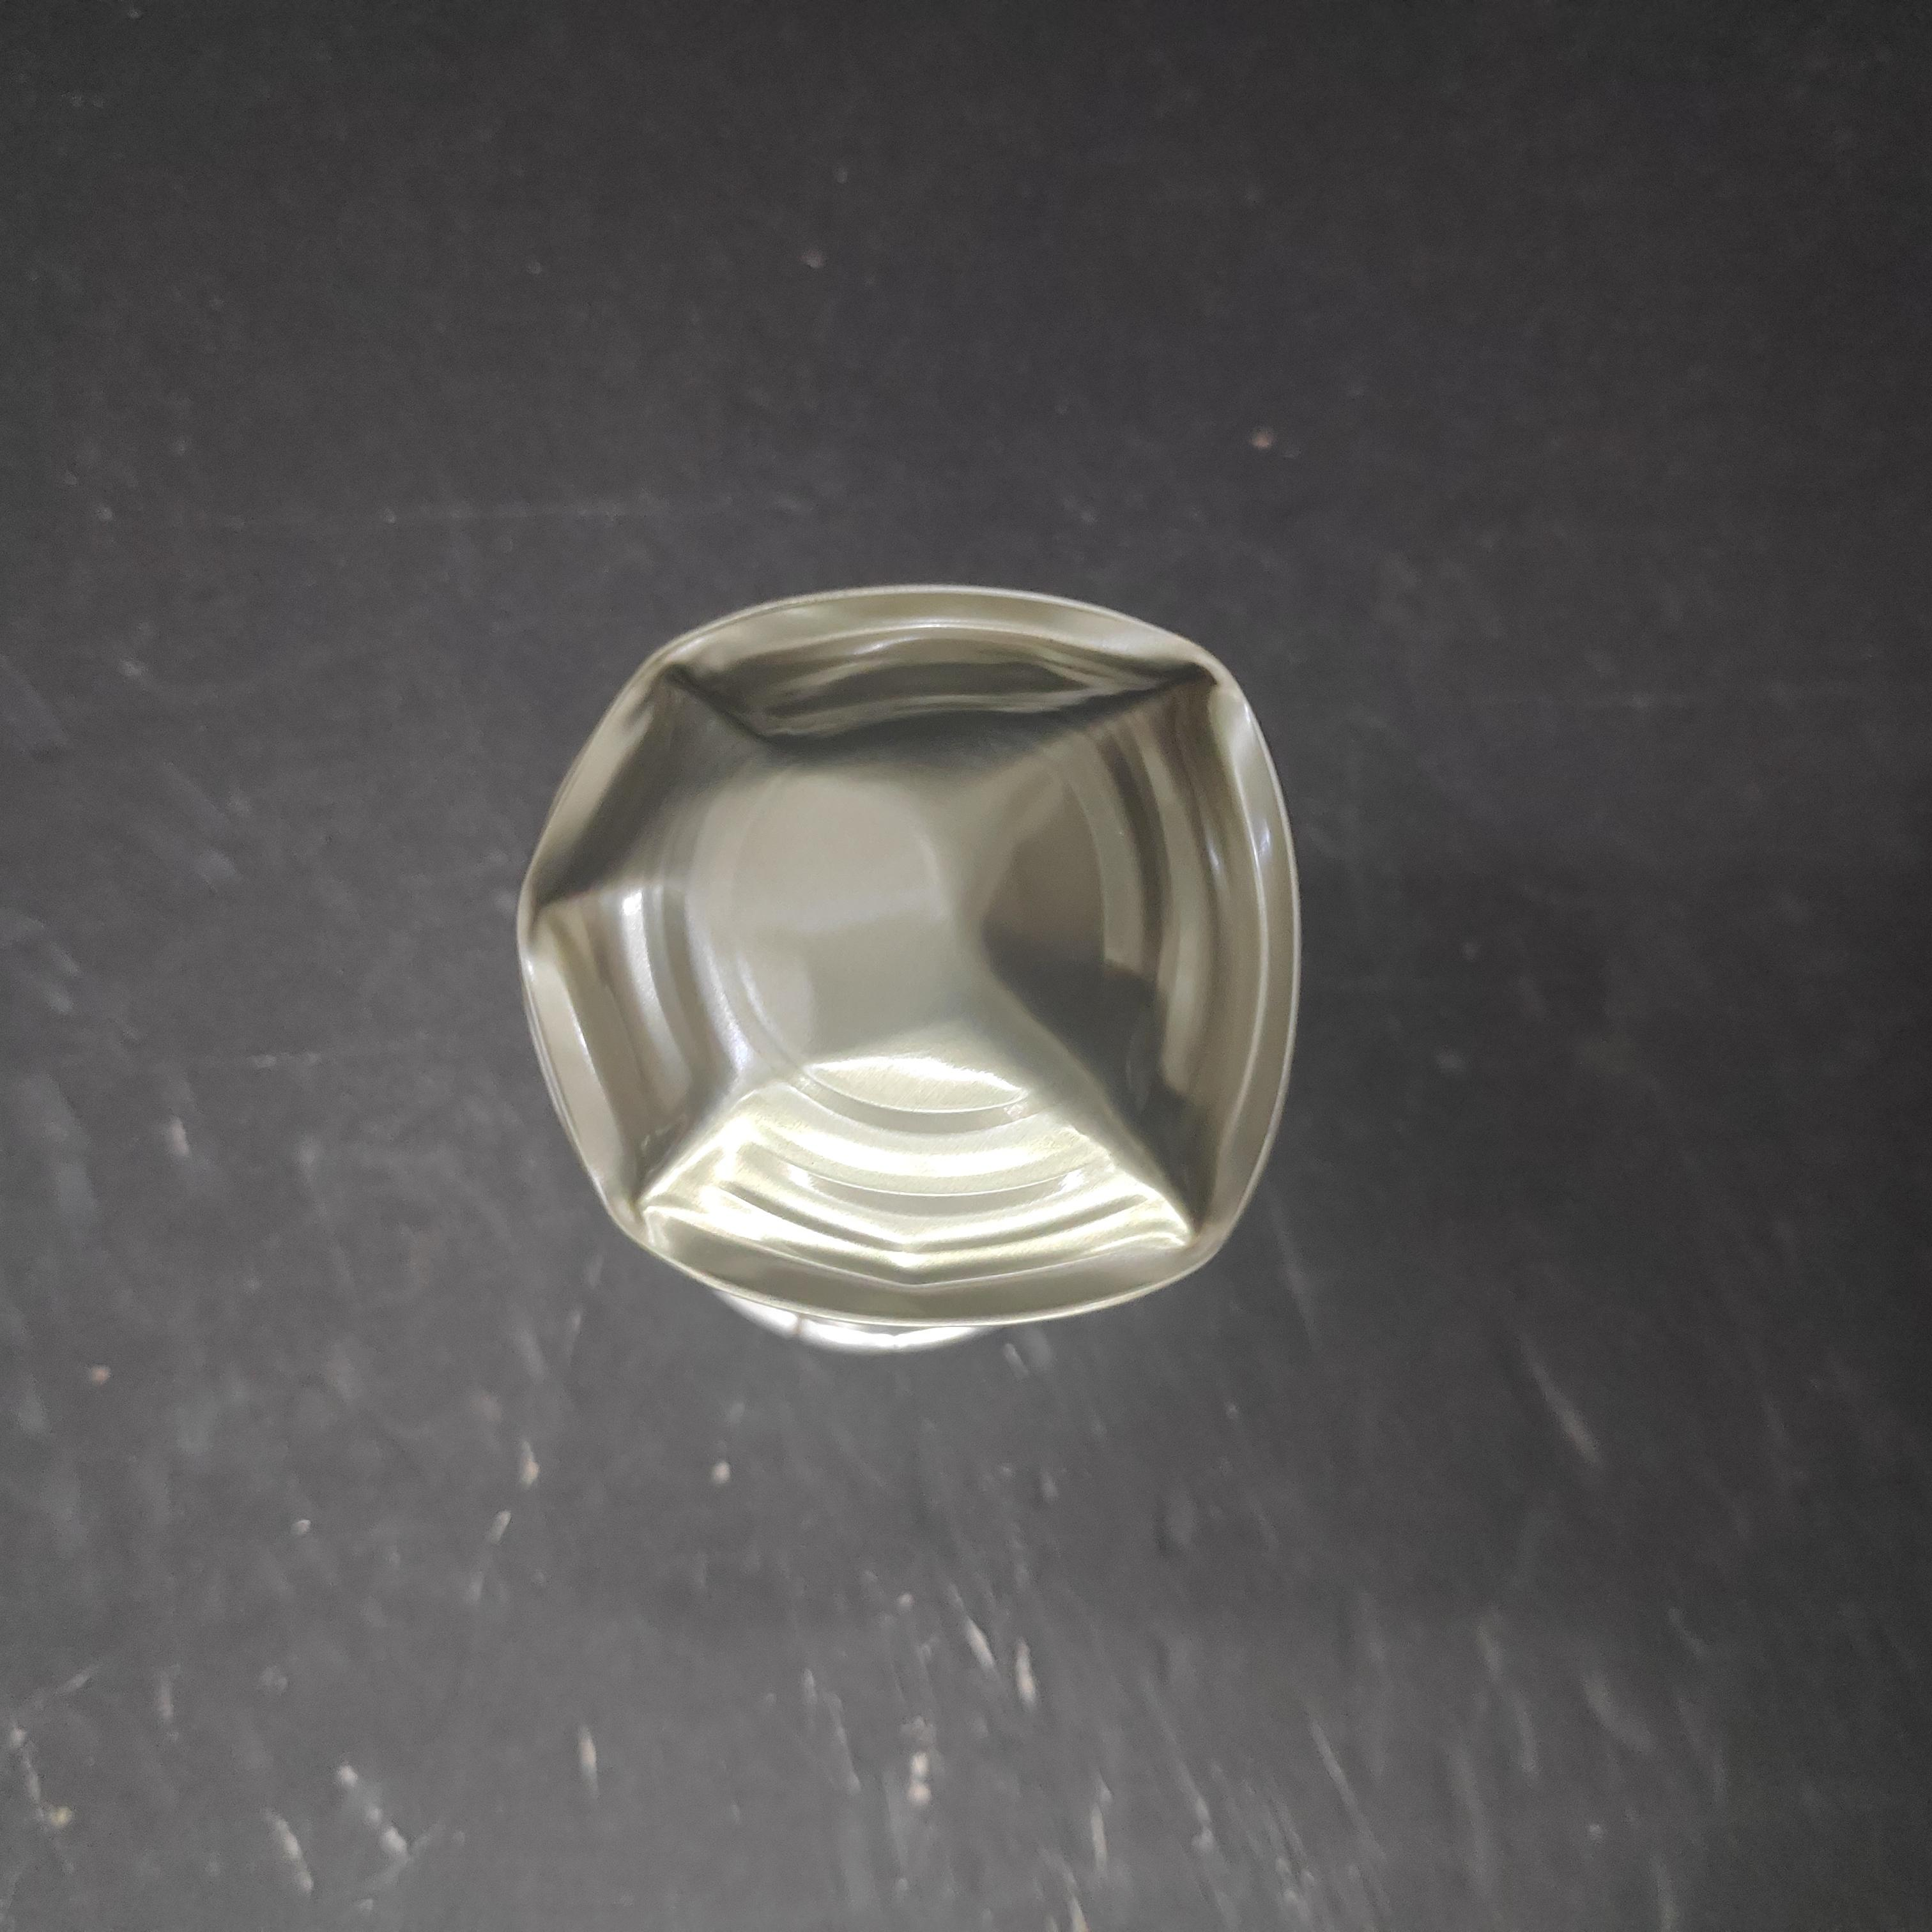Critical Defect: (561, 495, 1357, 1316)
